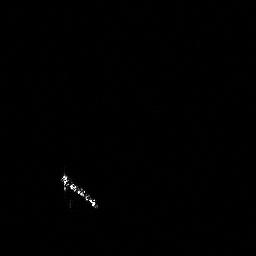ship: (56, 171, 102, 211)
